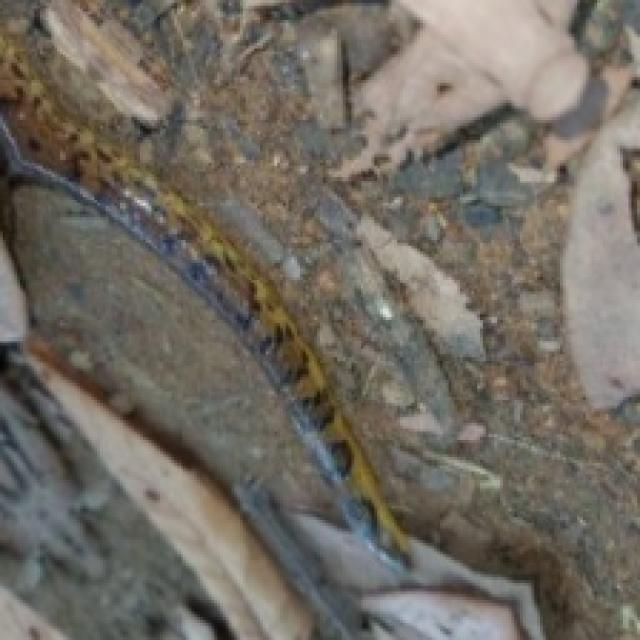luzon dwarf snake: (0, 0, 406, 554)
